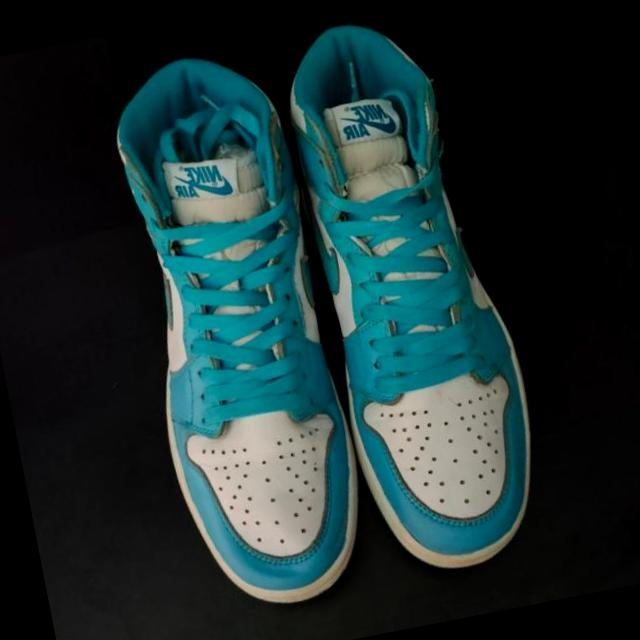nike_original_jordan: (265, 0, 557, 586), (95, 41, 384, 626)
